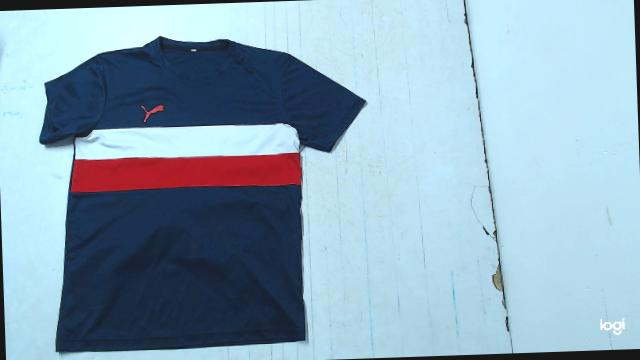new-garment: (40, 37, 365, 352), (76, 124, 299, 160)
